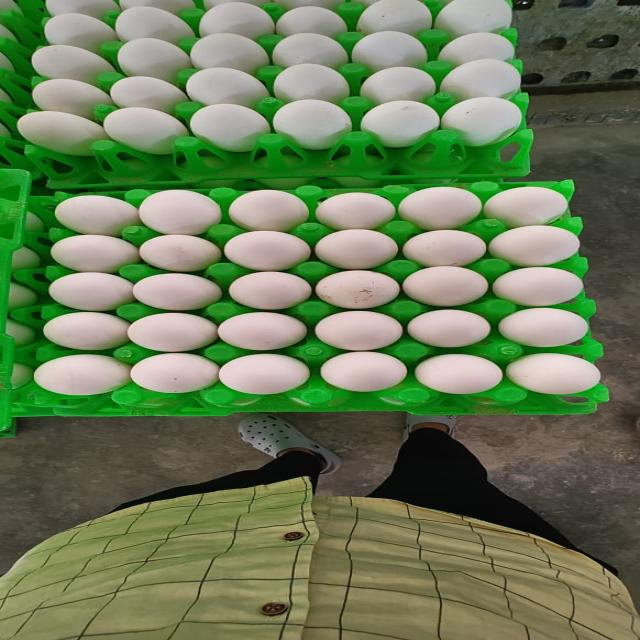egg_tray: (8, 181, 606, 414), (16, 0, 530, 188), (0, 0, 45, 179), (0, 170, 29, 320), (0, 321, 31, 437), (23, 326, 35, 341), (24, 288, 35, 303), (8, 113, 14, 125), (100, 3, 104, 10), (345, 183, 351, 186), (85, 9, 88, 11), (32, 220, 33, 222), (10, 126, 11, 128), (95, 9, 96, 11), (382, 182, 383, 183), (278, 185, 280, 185)
